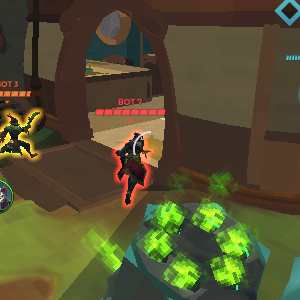model: (106, 128, 153, 216), (1, 105, 44, 154)
